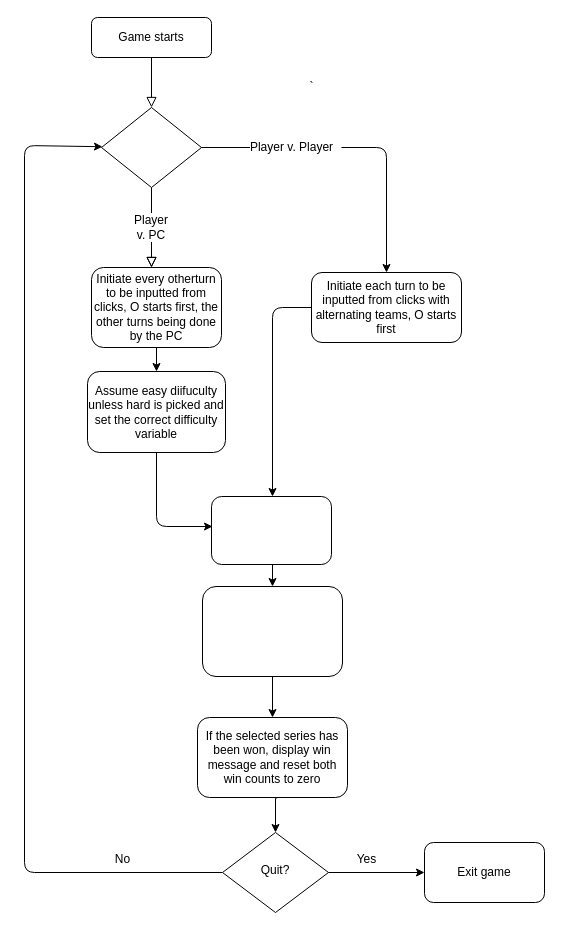
The diagram is 562 pixels wide and 930 high, and some of its shapes have lost their labels. Here are the shapes that lost their labels. From the top down, the centre of each, then its label:
At (151,147): "Pick Game mode".
At (271,530): "Start correct game loop with right game mode".
At (272,631): "When a 3 in a row is found, increment a win to the correct team and reset board".
